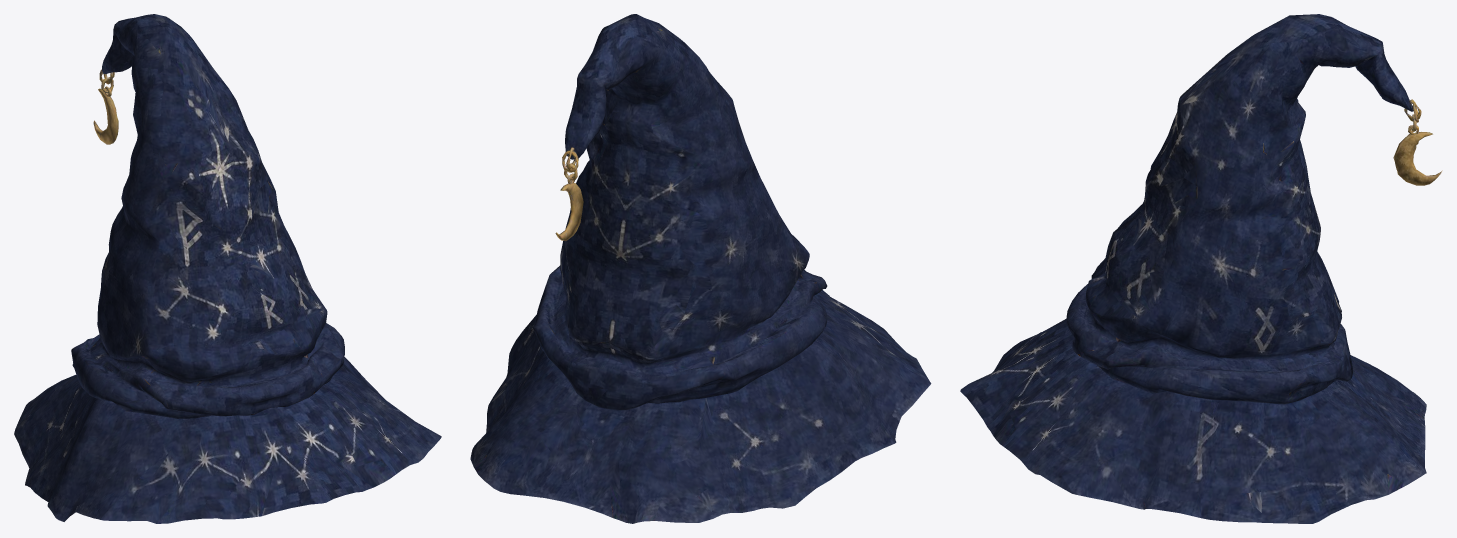
Rendered from HatSeer.fbx.
The picture shows the model from 3 angles, left to right: view 1: azimuth 30°, elevation 25°; view 2: azimuth 150°, elevation 25°; view 3: azimuth 270°, elevation 25°; orthographic projection. The views are drawn at different scales.
Visible parts, largest first — view 1: Mesh_0; view 2: Mesh_0; view 3: Mesh_0.
Boxes of the visible parts, x1,y1,x2,y2 form: Mesh_0: (14, 14, 441, 523); Mesh_0: (470, 14, 931, 523); Mesh_0: (960, 14, 1442, 523).
Bounding box in the file's own units: 81.93 × 95.22 × 94.02.
Materials: 1 (1 with a texture image).
